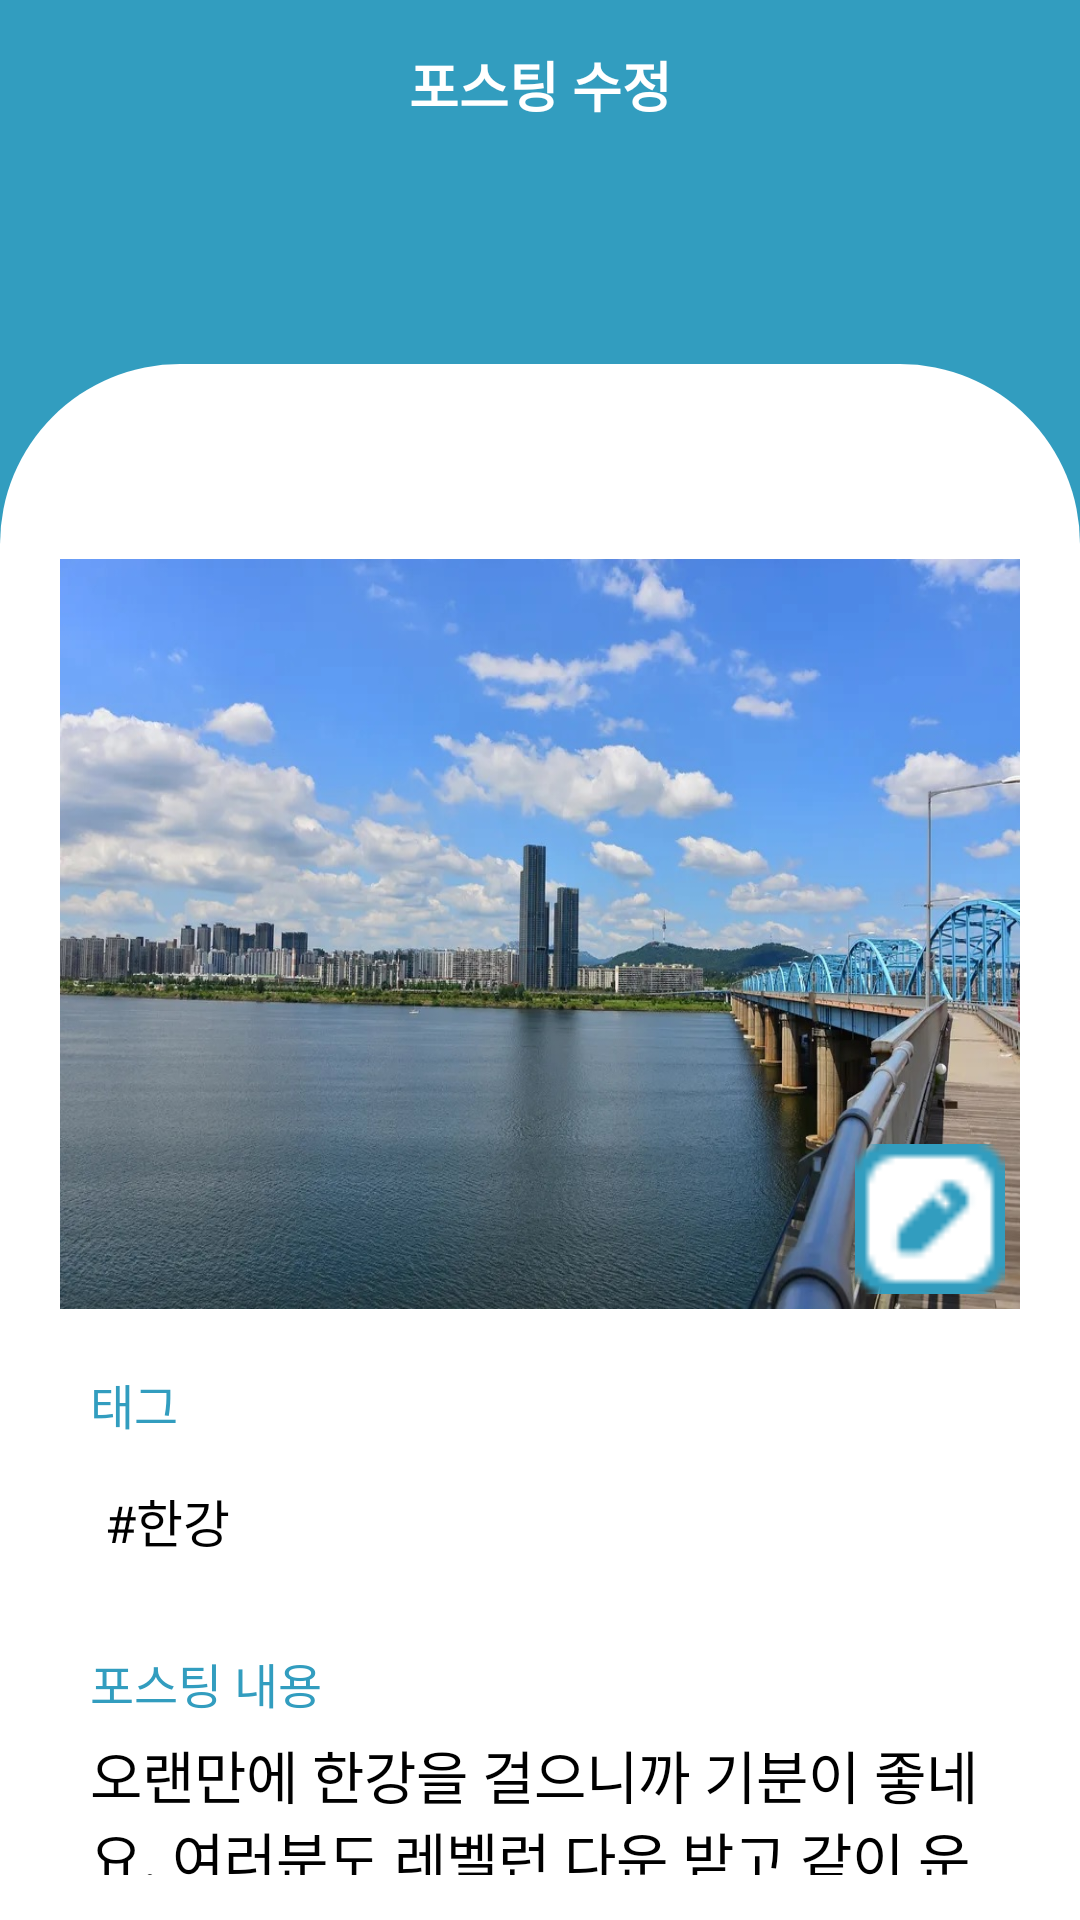

Icons on this 1080w x 1920h Android screen, each with the point to tap as point (x, y):
profileedit: point (930, 1219)
